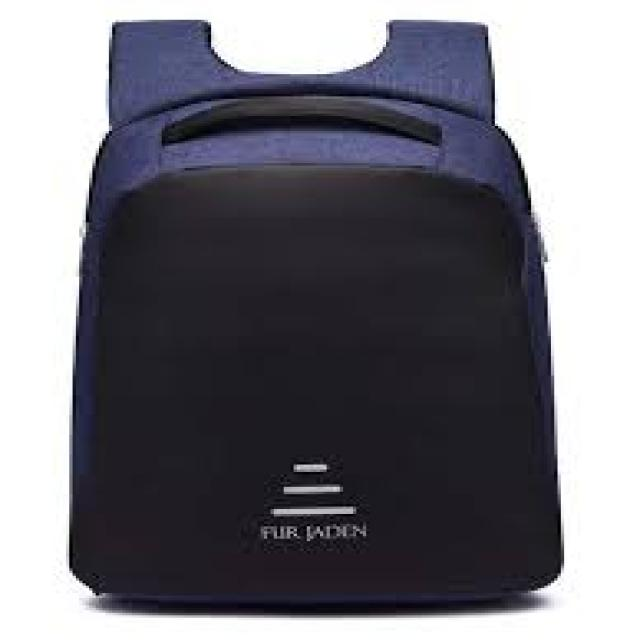backpack: (67, 18, 565, 609)
